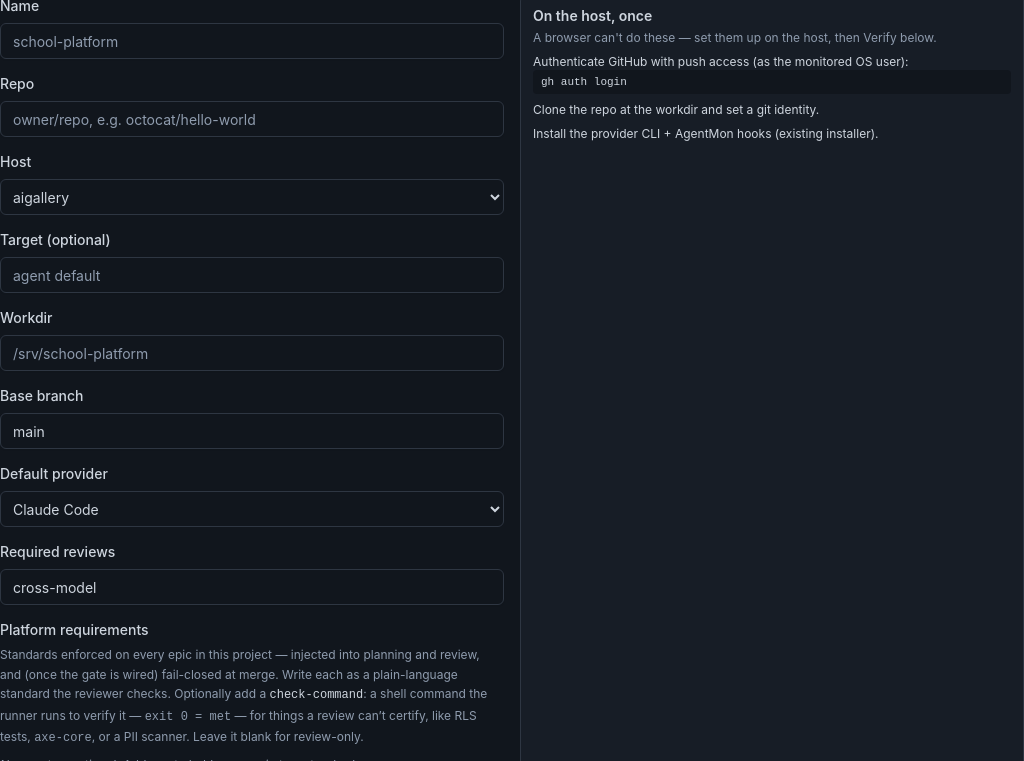
Scenario: ProjectForm create › validates repo and required fields before enabling submit
The width and height of the screenshot is (1024, 761).
Type "school" into the field labelled "Name" at (252, 41), box [0,23,504,59]
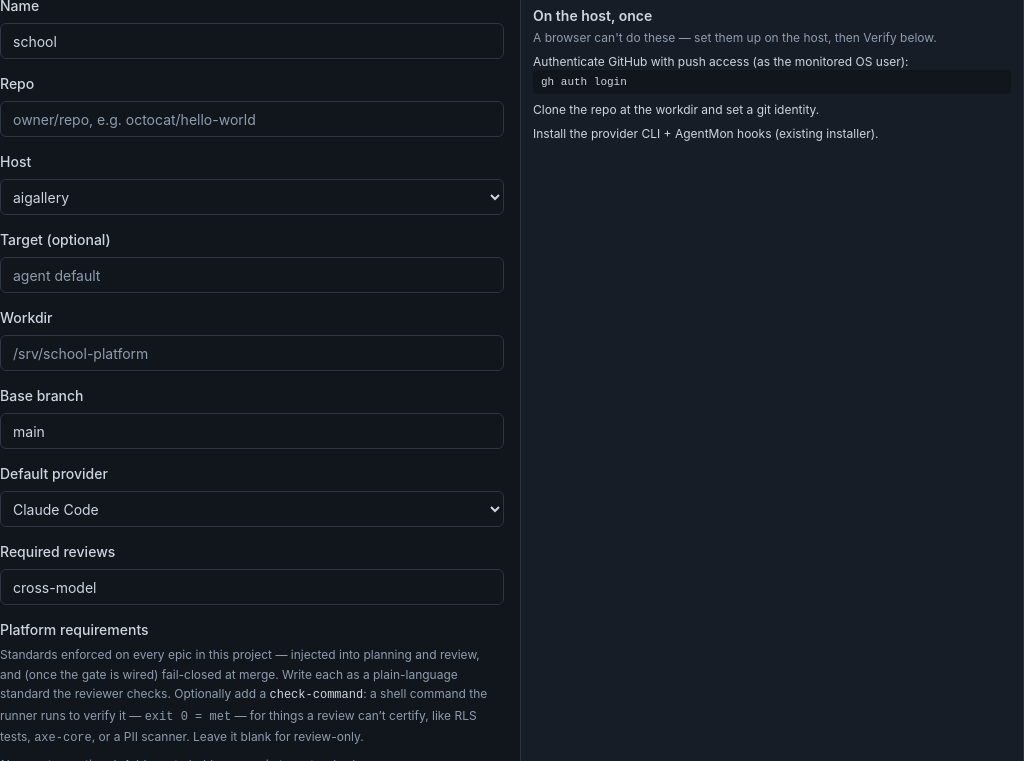
Type "not-a-repo" into the field labelled "Repo" at (252, 119), box [0,101,504,137]
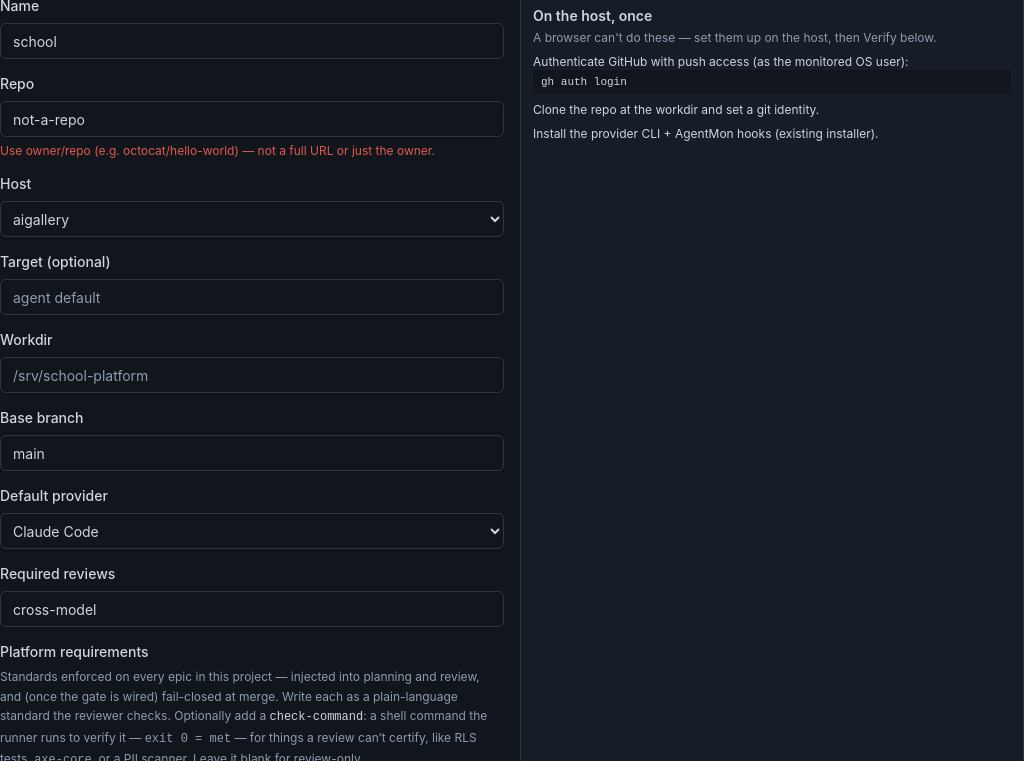
Type "/srv/school" into the field labelled "Workdir" at (252, 375), box [0,357,504,393]
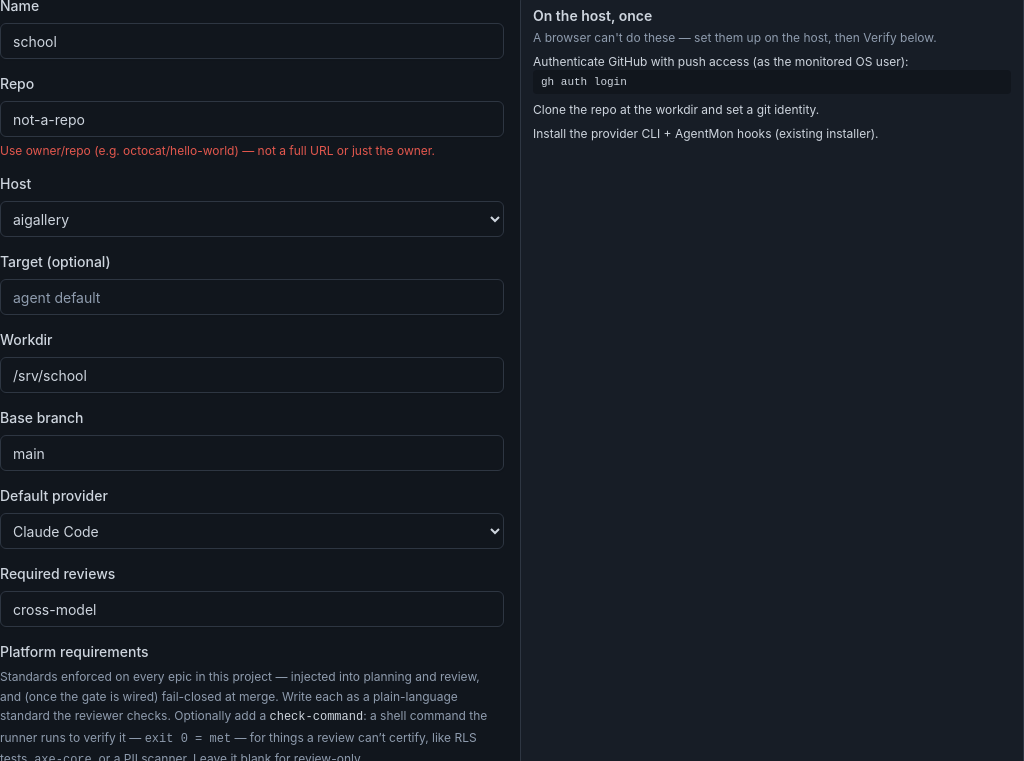
Replace the text in the field labelled "Repo" with "darthnorse/school" at (252, 119), box [0,101,504,137]
(page scrolled)
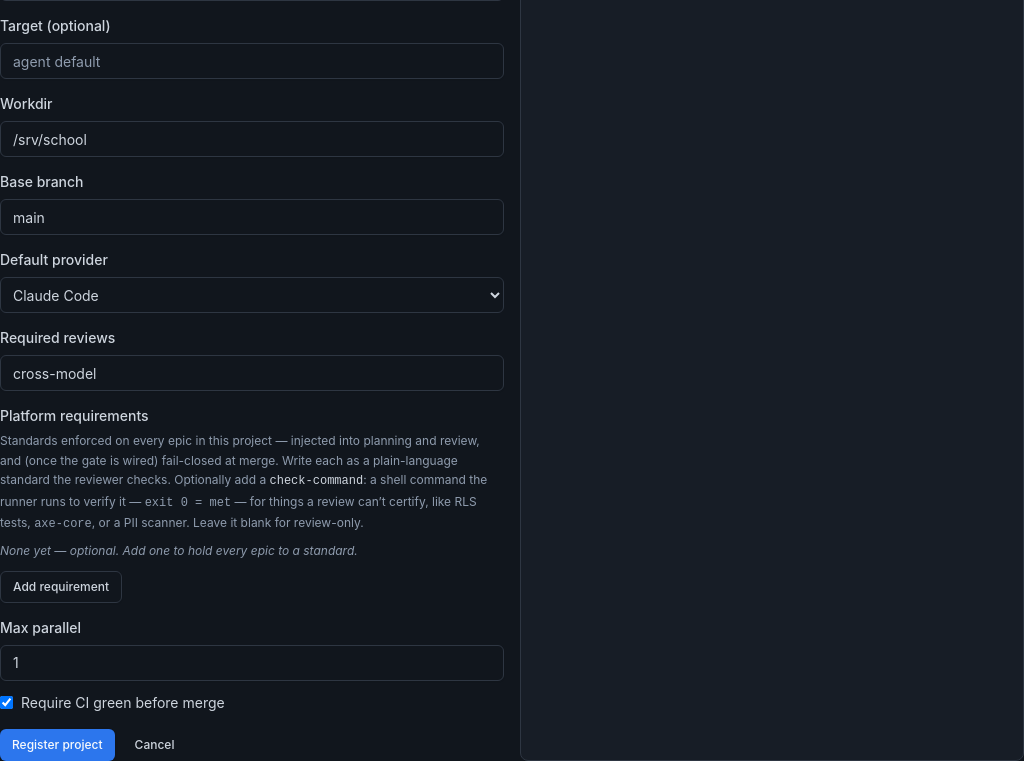
Now the button "Register project" is enabled, box [0,728,115,760]
